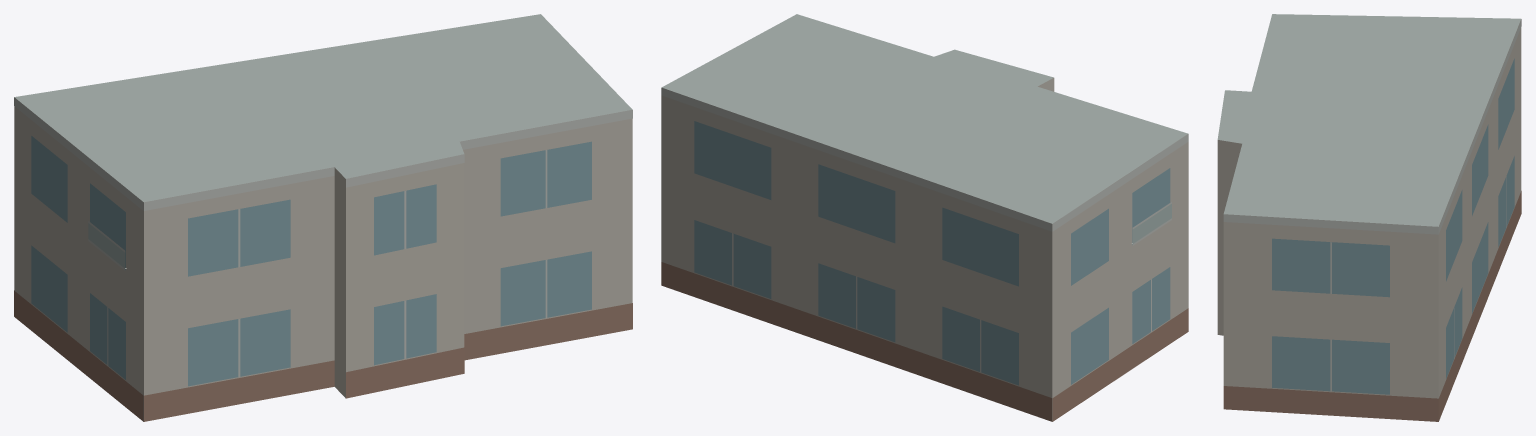
Rendered from survey-upis-33003106.glb.
3 views of the same model, side by side, from view 1: azimuth 30°, elevation 25°; view 2: azimuth 150°, elevation 25°; view 3: azimuth 270°, elevation 25° (orthographic). The views are drawn at different scales.
Visible parts, largest first — view 1: survey-upis-33003106.tmp; view 2: survey-upis-33003106.tmp; view 3: survey-upis-33003106.tmp.
Part boxes in pixels (x1,y1,x2,y2): survey-upis-33003106.tmp: (14,14,632,421); survey-upis-33003106.tmp: (661,14,1188,421); survey-upis-33003106.tmp: (1217,14,1521,421).
Bounding box in the file's own units: 14.28 × 6.1 × 8.62.
